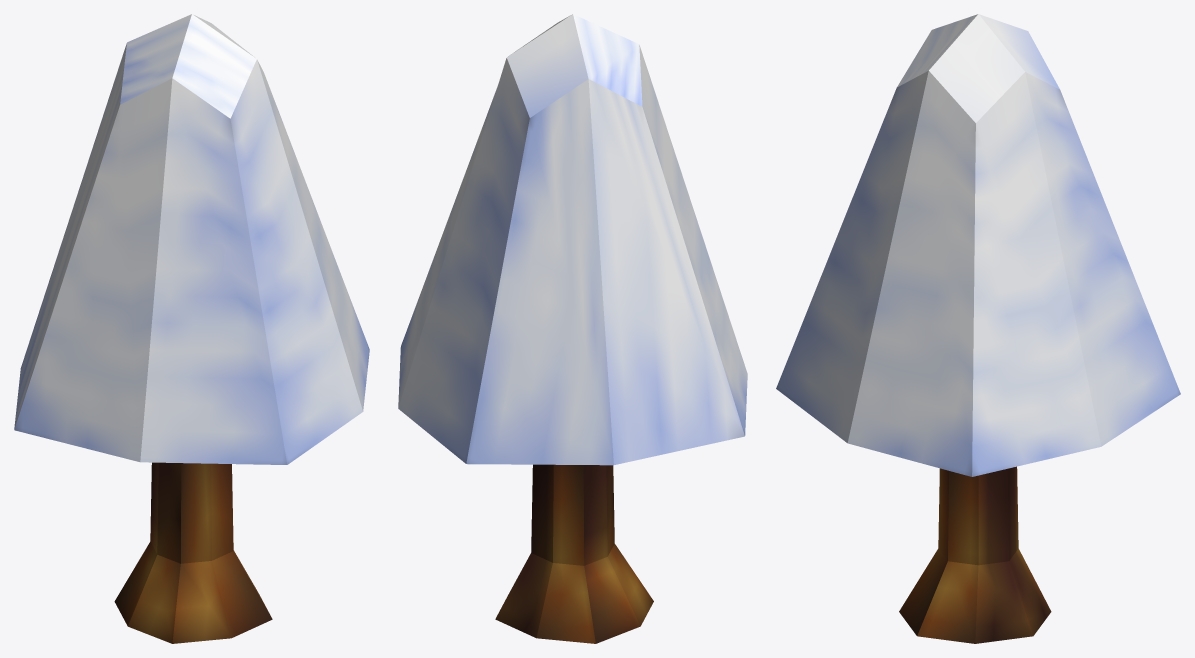
The model's file is Poly_World_Map_Land_Tree_02_Snow_Single.obj.
3 renders of one model, left to right at view 1: azimuth 30°, elevation 25°; view 2: azimuth 150°, elevation 25°; view 3: azimuth 270°, elevation 25°, orthographic.
Parts seen in each view (by area): view 1: Cube.004_Cube.045, Cube.005_Cube.046; view 2: Cube.004_Cube.045, Cube.005_Cube.046; view 3: Cube.004_Cube.045, Cube.005_Cube.046.
Boxes of the visible parts, box(x1,y1,x2,y2) form: Cube.004_Cube.045: box(14, 14, 369, 464); Cube.005_Cube.046: box(114, 462, 272, 643); Cube.004_Cube.045: box(398, 14, 747, 465); Cube.005_Cube.046: box(495, 464, 653, 643); Cube.004_Cube.045: box(776, 14, 1180, 476); Cube.005_Cube.046: box(899, 466, 1051, 643).
Size of the model in its own units: 0.4251 by 0.6923 by 0.4251.
1 material, 1 textured.
